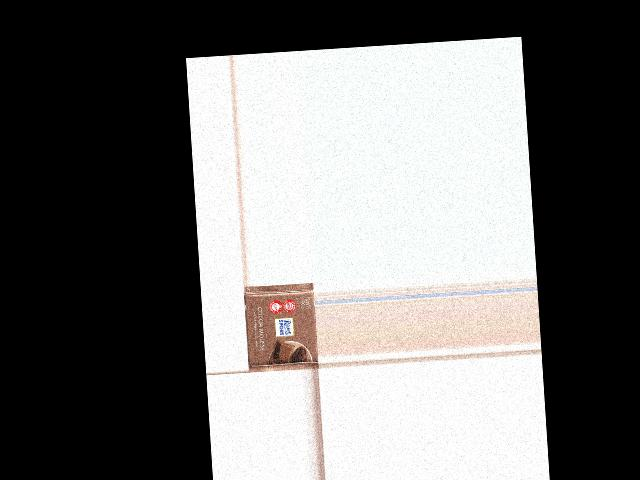chocolate: (242, 283, 318, 373)
